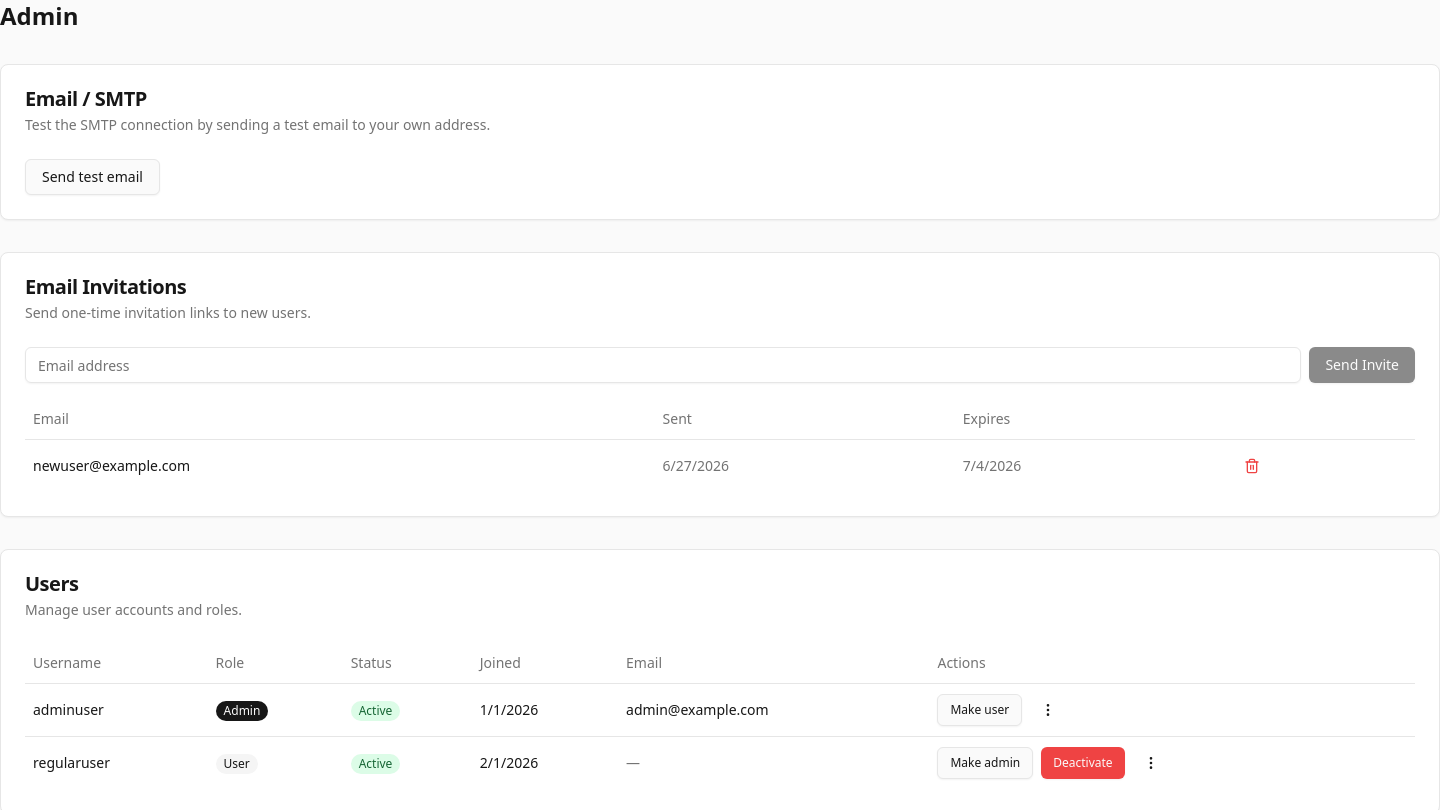
Scenario: UsersSection — Edit Email Dialog (EMAIL-11) › EMAIL-11b: opening the dialog pre-fills the input with the target user's current email
Press the mouse on the button named "User actions for adminuser" at (1048, 710), box [1030, 692, 1066, 728]
Click the button named "User actions for adminuser" at (1048, 710), box [1030, 692, 1066, 728]
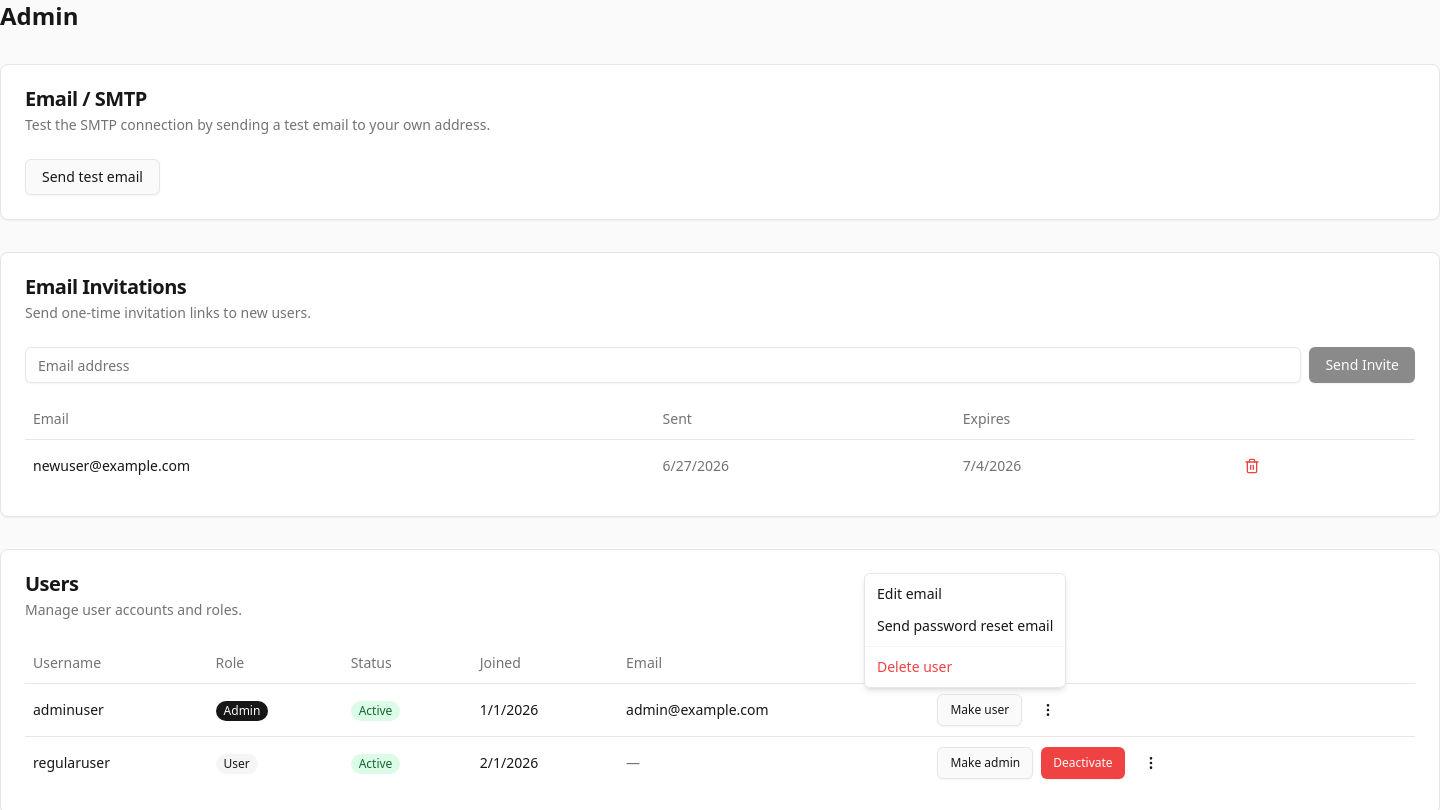
Click the menu item "Edit email" at (909, 594), box [877, 584, 942, 603]
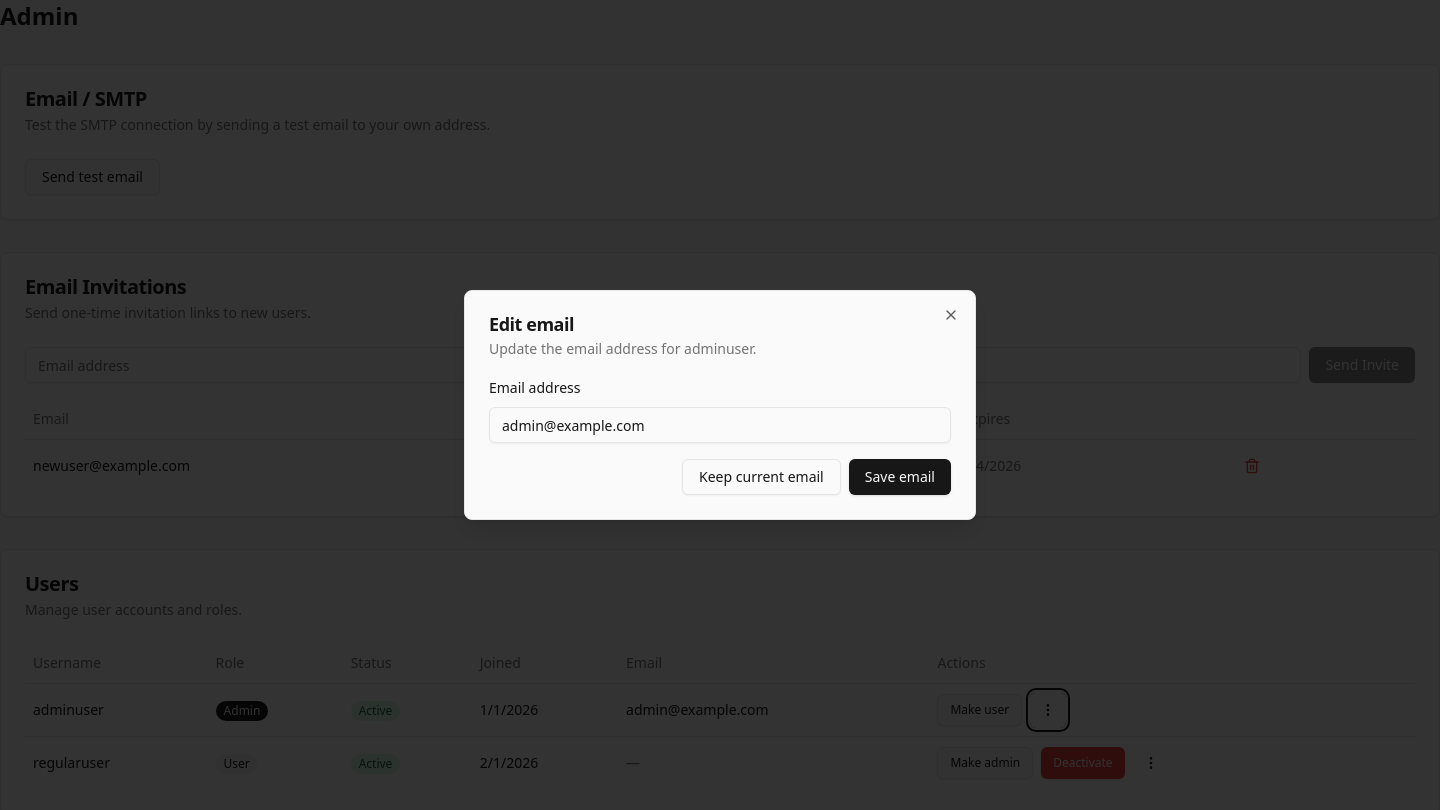
Check: the field labelled "Email address" holds "admin@example.com", box [489, 407, 951, 443]
